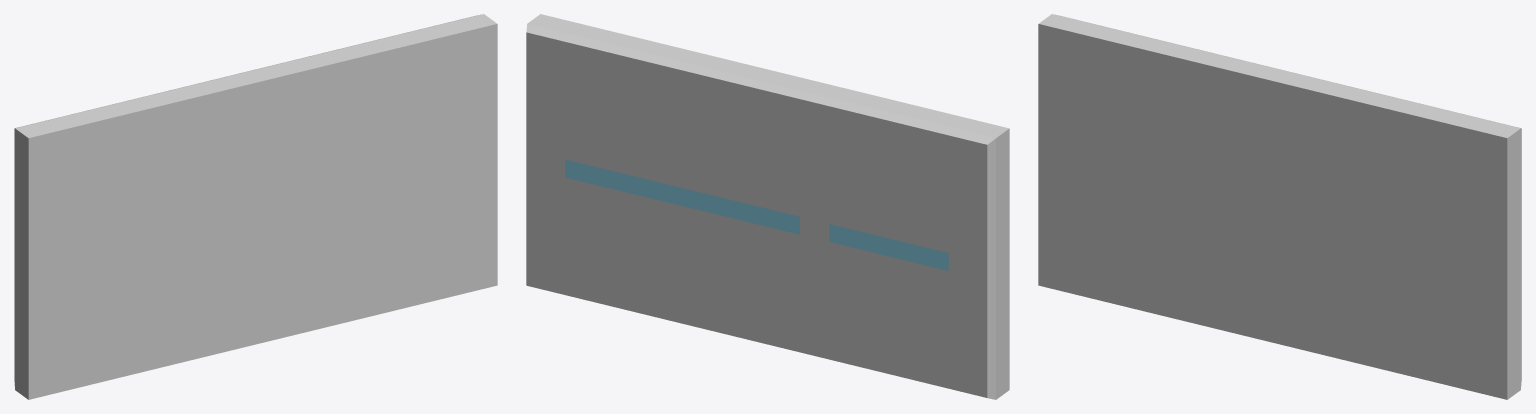
Rendered from ToiletButton2.glb.
3 views of the same model, side by side, from view 1: azimuth 30°, elevation 25°; view 2: azimuth 150°, elevation 25°; view 3: azimuth 330°, elevation 25° (orthographic).
Visible parts, largest first — view 1: ToiletButton2; view 2: ToiletButton2; view 3: ToiletButton2.
Part boxes in pixels (<box>): ToiletButton2: <box>14,14,497,399</box>; ToiletButton2: <box>526,14,1009,399</box>; ToiletButton2: <box>1038,14,1521,399</box>.
Bounding box in the file's own units: 0.121 × 0.0645 × 0.00806.
